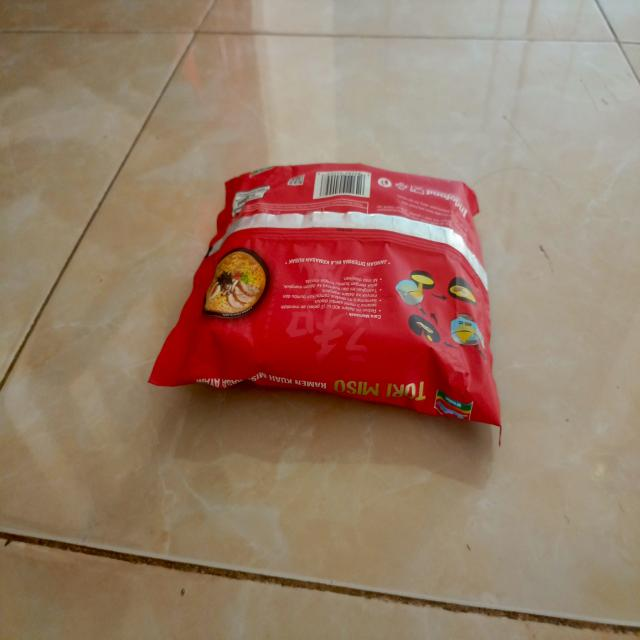indomie-tori-miso: (146, 163, 504, 456)
